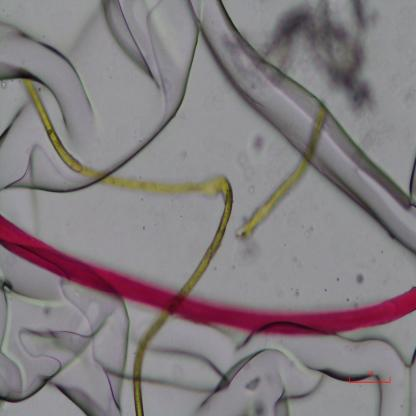Background material: (37, 0, 206, 158), (173, 325, 416, 414), (0, 268, 129, 414), (190, 0, 307, 127), (256, 0, 380, 106), (335, 126, 416, 262), (0, 14, 64, 91), (0, 152, 74, 210), (401, 82, 416, 110), (350, 270, 368, 288), (252, 135, 266, 154), (291, 286, 301, 299)
Microfibre: (22, 75, 235, 416), (0, 213, 416, 338), (237, 103, 327, 242)
